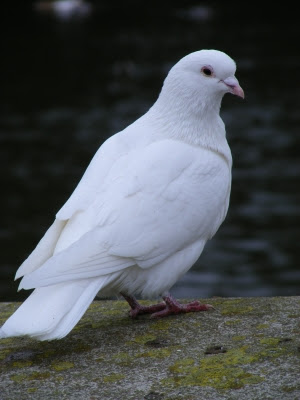bird: (1, 32, 252, 355)
